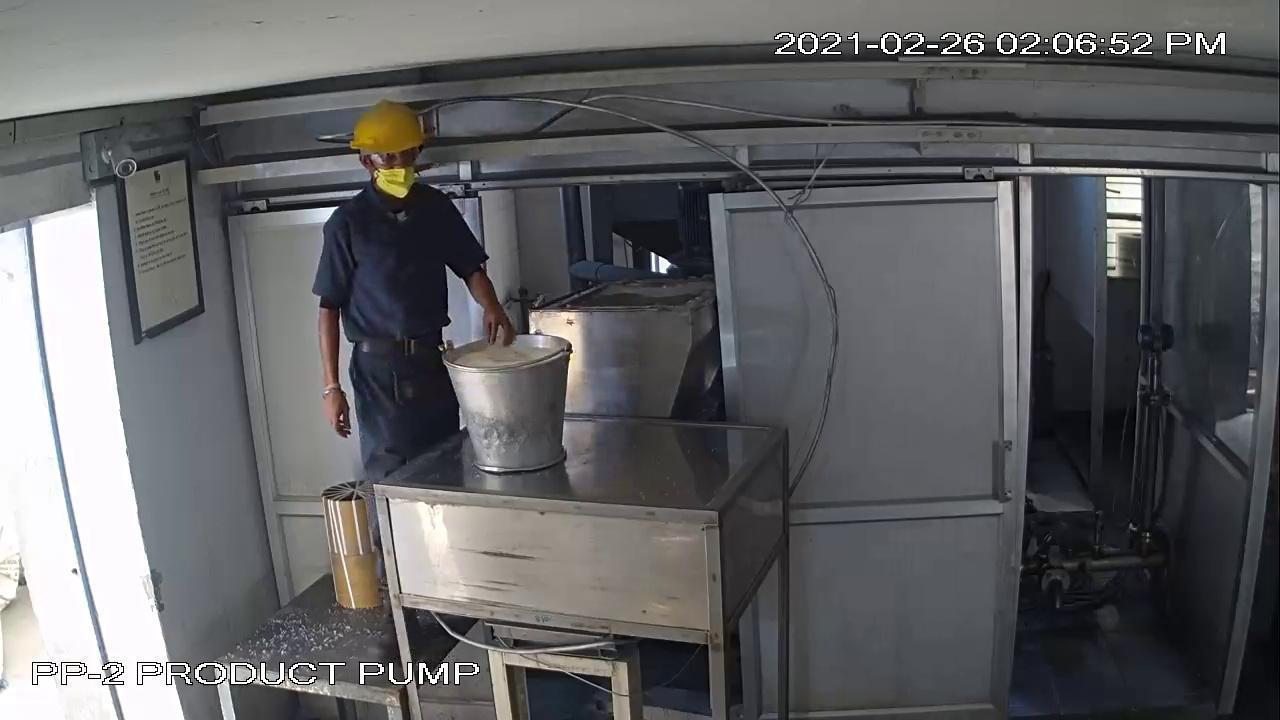helmet: (332, 92, 443, 163)
